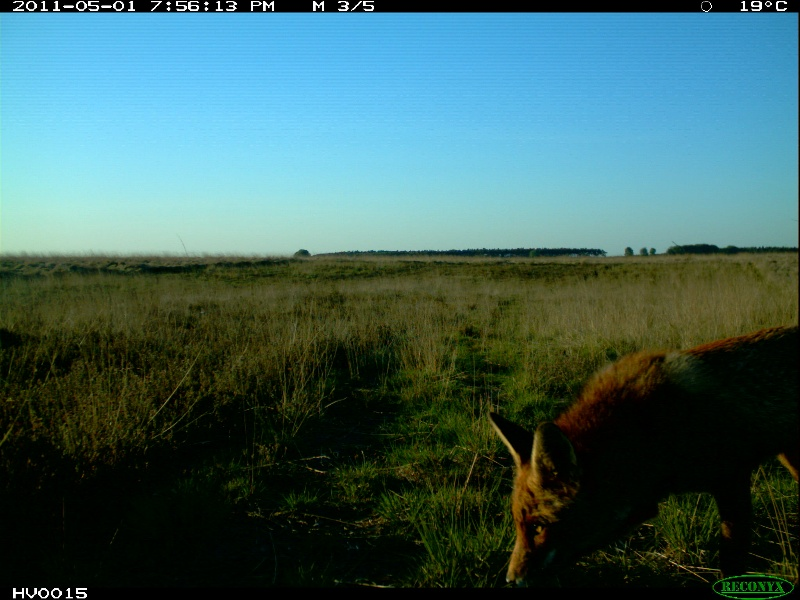fox: (485, 319, 800, 584)
